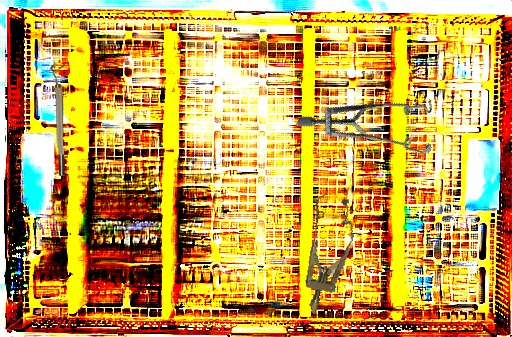Fixation Ring: (50, 62, 67, 177)
Speculum: (294, 43, 455, 200), (291, 192, 361, 319)
